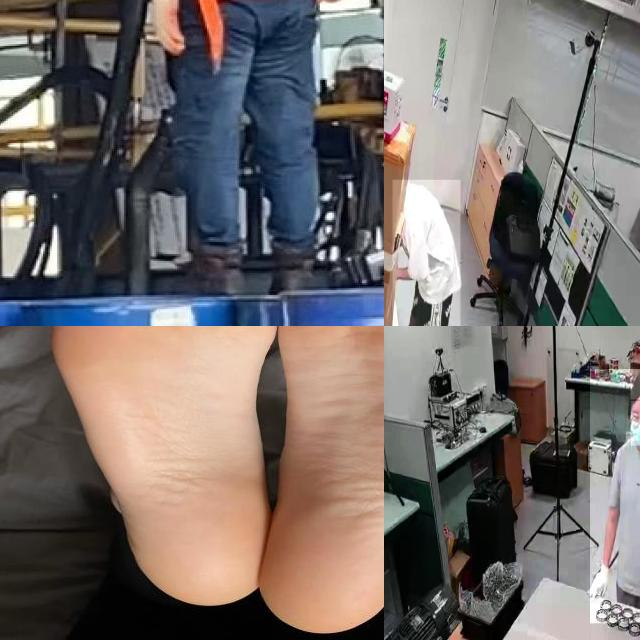Barefoots: (21, 326, 293, 627), (244, 326, 384, 637)
Harness: (164, 0, 322, 70)
face_mask: (630, 401, 640, 445)
hand_glove: (586, 556, 608, 614)
head_nohelmet: (630, 369, 640, 400)
person: (590, 369, 640, 624), (392, 179, 461, 326)
